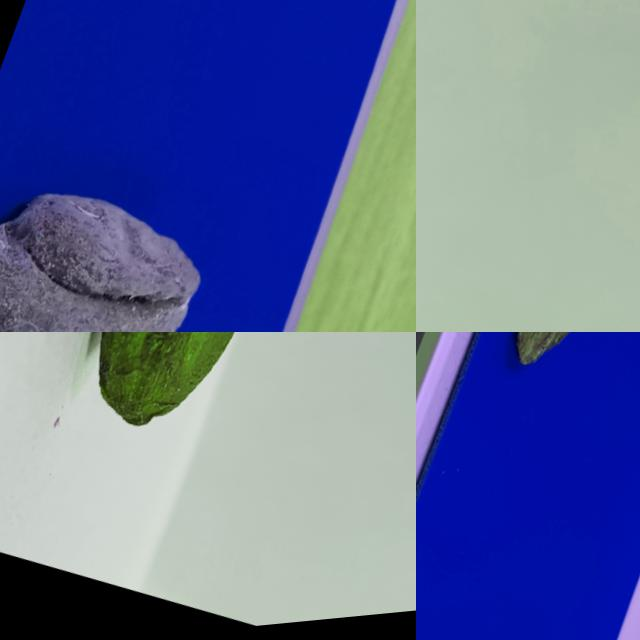Agglomerated_cocoabeans: (0, 47, 291, 331)
Fine_cocoabeans: (5, 332, 362, 524)
Flat_cocoabeans: (437, 332, 639, 472)
